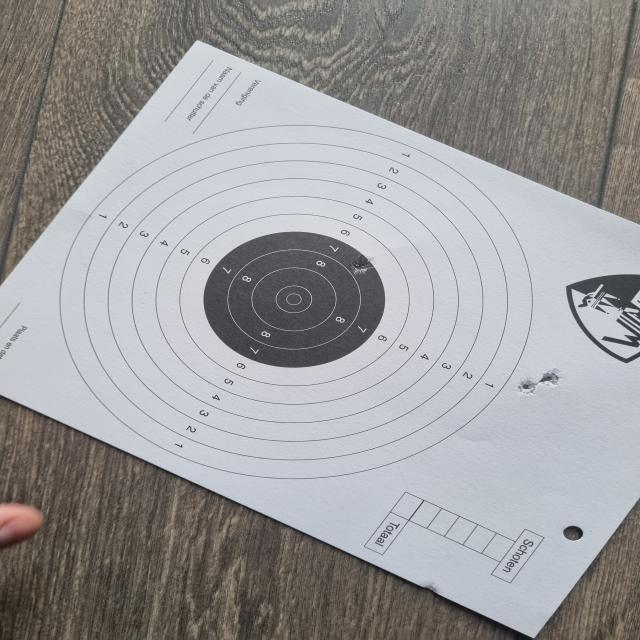8: (352, 255, 375, 275)
Black Contour: (204, 231, 386, 368)
Target: (61, 121, 534, 481)
hole: (540, 368, 562, 386), (516, 378, 538, 394)
